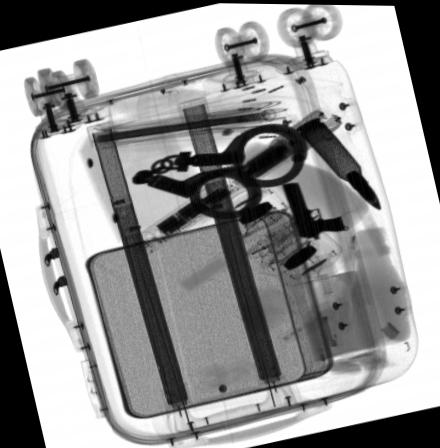Baton: (128, 107, 341, 254)
Bullet: (293, 112, 382, 209)
Gun: (281, 179, 349, 238)
HandCuffs: (132, 121, 307, 224)
